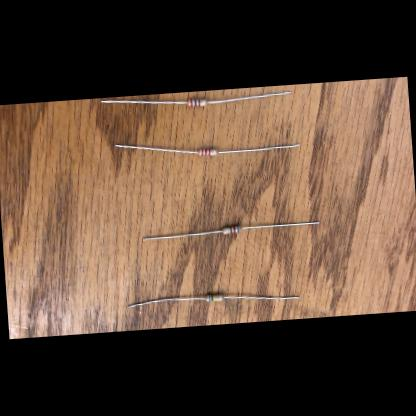resistor: (222, 225, 240, 234), (204, 294, 223, 302), (187, 99, 206, 107), (198, 149, 216, 157)
wire: (114, 138, 196, 158), (101, 95, 186, 109), (208, 92, 290, 104), (127, 296, 204, 308), (224, 292, 298, 304), (142, 231, 222, 241), (218, 144, 298, 154), (241, 222, 320, 230)
